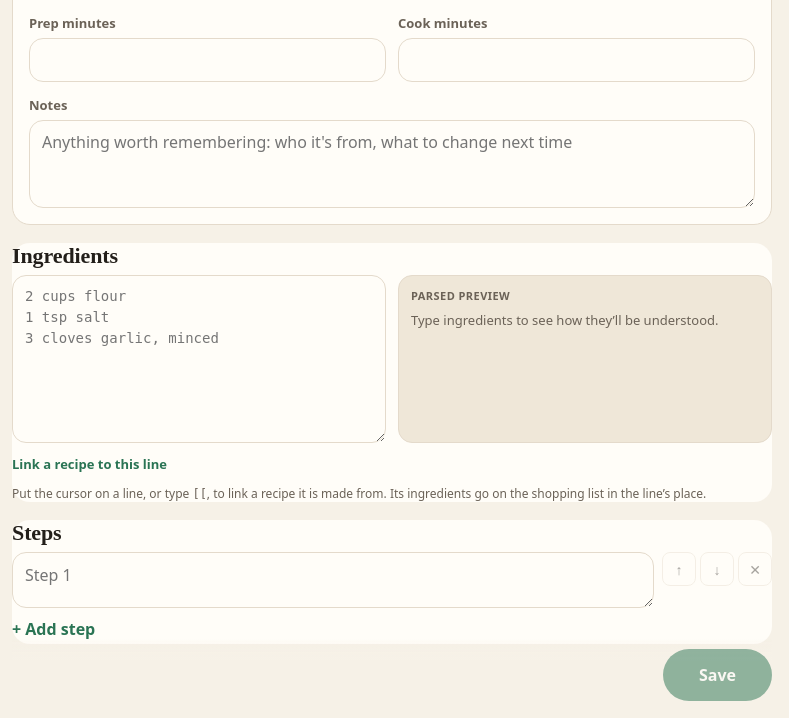
Test case: RecipeEdit › renders a live parsed preview from parseIngredientLine as you type
(page scrolled)
Step 1. Type "2 cups flour" into the text box named "Ingredients, one per line" → (199, 359), box [12,275,386,443]
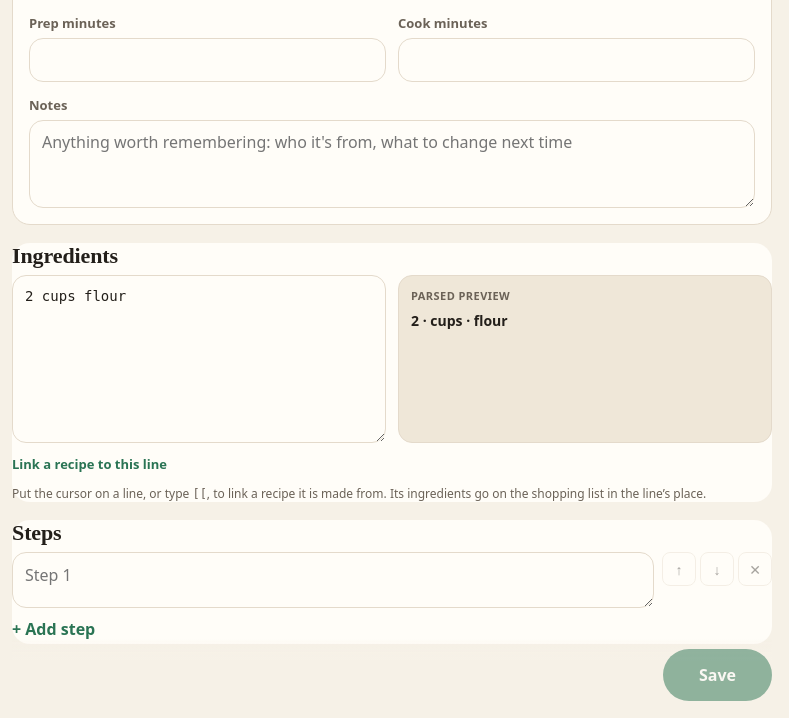
Check: the text "2 · cups · flour" is shown, box [411,311,508,330]
